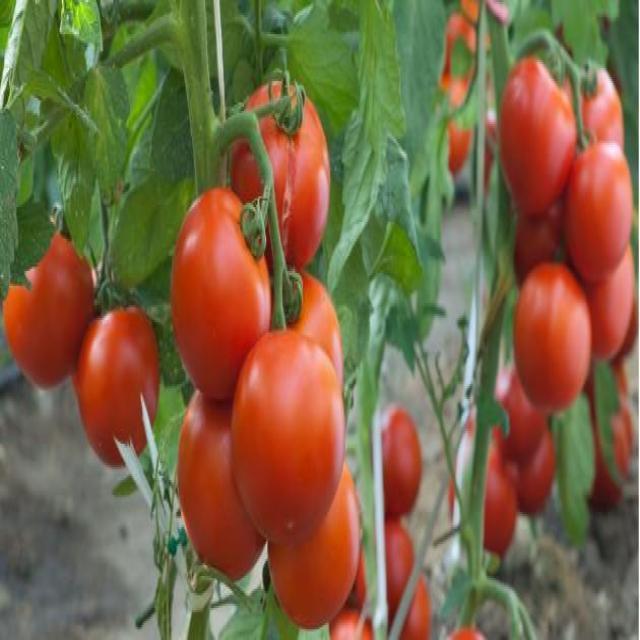kirmizi: (110, 164, 404, 600)
